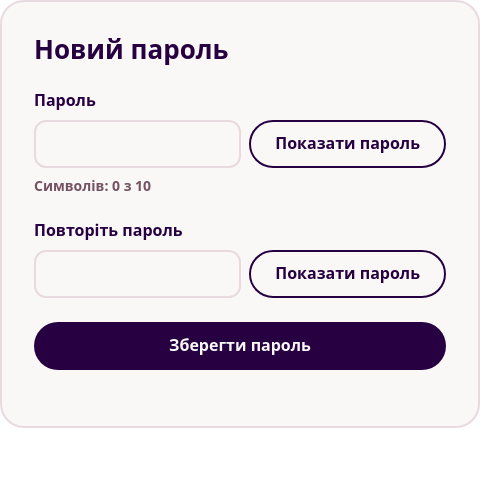
Scenario: the reset page › no answer at all: «Не вдалося звʼязатися із сайтом…» (G4, audit 2026-10-22)
Type "ялинка-під-вікном" into the password field labelled "Пароль". click: (138,144)
box: [34,120,241,168]
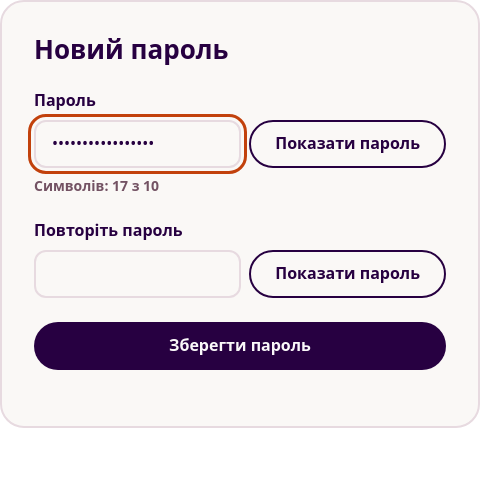
Type "ялинка-під-вікном" into the password field labelled "Повторіть пароль". click: (138,274)
box: [34,250,241,298]
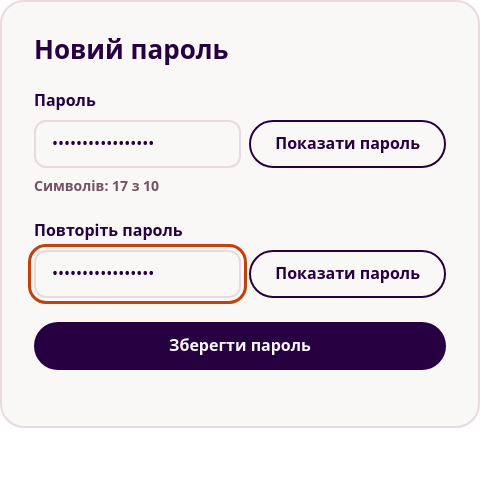
Click the button "Зберегти пароль". click: (240,346)
box: [34,322,446,370]
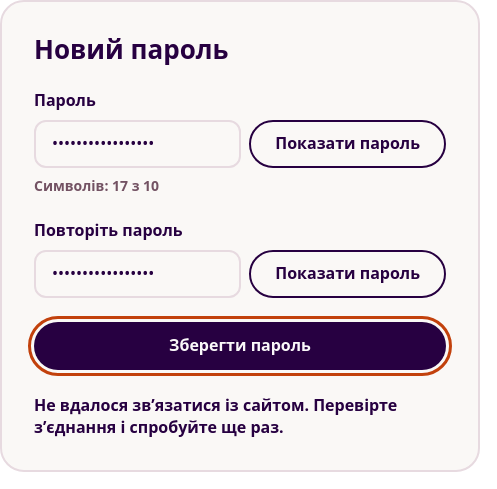
Result: the message reads "Не вдалося звʼязатися із сайтом. Перевірте зʼєднання і спробуйте ще раз." at [34,394,397,438]
